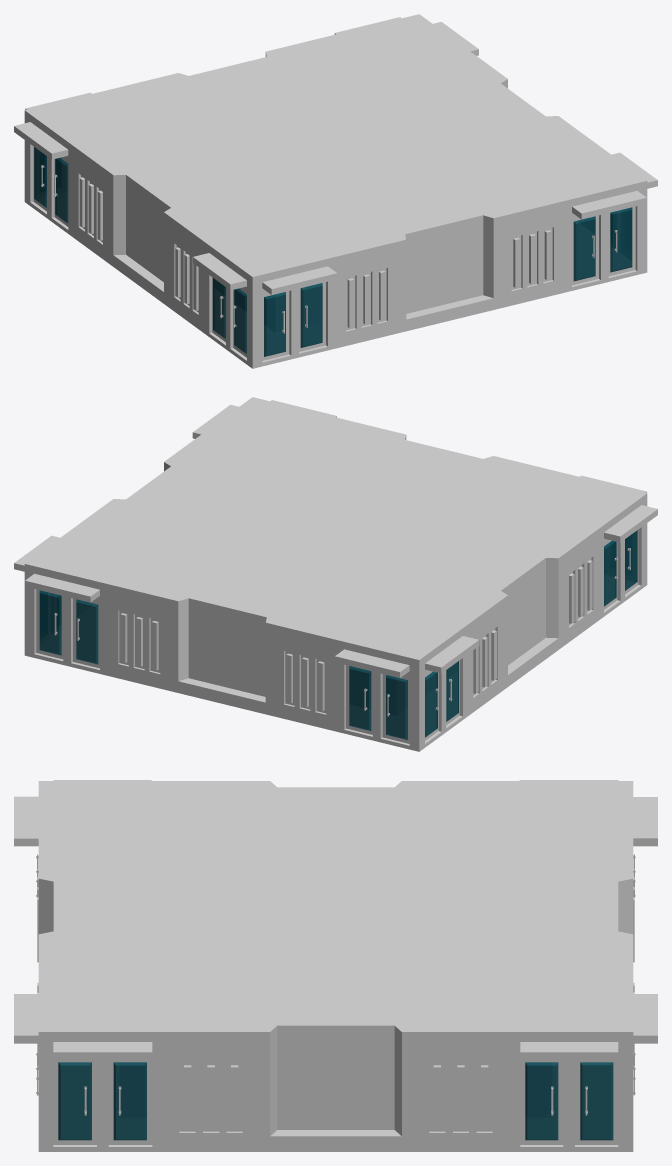
File: building_office_four_sided_03_base.fbx
3 renders of one model, top to bottom at view 1: azimuth 30°, elevation 25°; view 2: azimuth 150°, elevation 25°; view 3: azimuth 270°, elevation 25°, orthographic. The views are drawn at different scales.
Parts seen in each view (by area): view 1: building_office_four_sided_03_base, building_office_four_sided_03_glass; view 2: building_office_four_sided_03_base, building_office_four_sided_03_glass; view 3: building_office_four_sided_03_base, building_office_four_sided_03_glass.
Part boxes in pixels (bbox=[...]): building_office_four_sided_03_base: bbox=[14, 14, 657, 368]; building_office_four_sided_03_glass: bbox=[34, 147, 632, 356]; building_office_four_sided_03_base: bbox=[14, 397, 657, 751]; building_office_four_sided_03_glass: bbox=[39, 530, 637, 739]; building_office_four_sided_03_base: bbox=[14, 780, 657, 1151]; building_office_four_sided_03_glass: bbox=[58, 1062, 613, 1140].
Bounding box in the file's own units: 1950 × 400 × 1950.
